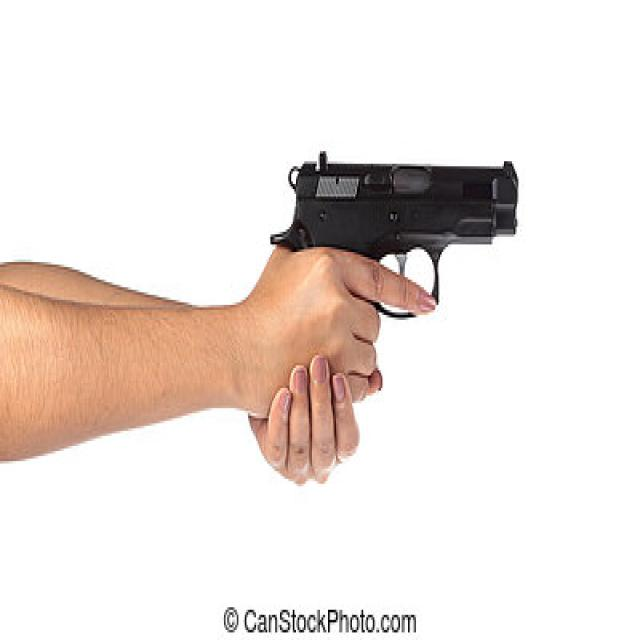HandGun: (269, 151, 518, 320)
